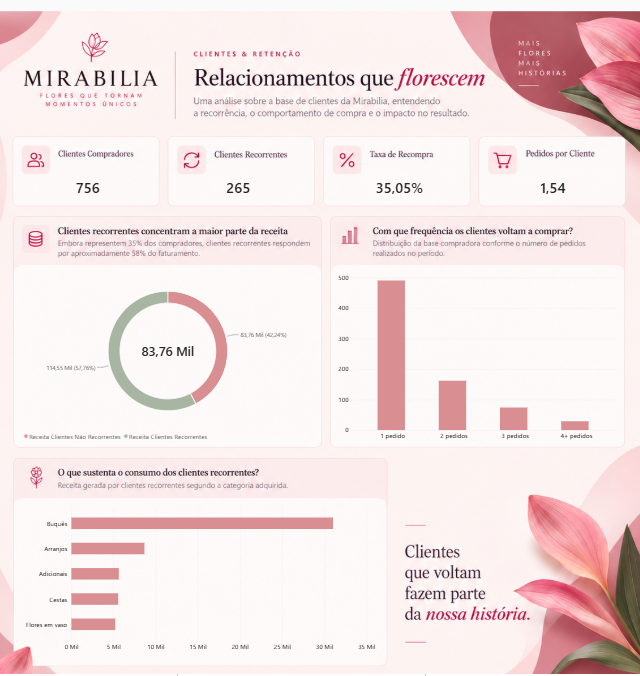

This screenshot's page, from the dashboard's own definition file:
{"tool":"powerbi","page":{"name":"🌷 Clientes & Retenção","canvas":[1440,1800],"ordinal":2},"visuals":[{"type":"cardVisual","fields":{"Data":["Medidas.Clientes Compradores"]},"box":[45,350,320,105],"z":0},{"type":"cardVisual","fields":{"Data":["Medidas.Clientes Recorrentes"]},"box":[382.5,382.5,315,72.5],"z":1000},{"type":"cardVisual","fields":{"Data":["Medidas.Taxa de Recompra"]},"box":[745,382.5,305,72.5],"z":2000},{"type":"cardVisual","fields":{"Data":["Medidas.Pedidos por Cliente"]},"box":[1087.5,382.5,307.5,72.5],"z":3000},{"type":"donutChart","title":"Clientes recorrentes concentram a maior parte da receita","fields":{"Y":["Medidas.Receita Clientes Não Recorrentes","Medidas.Receita Clientes Recorrentes"]},"box":[45,597.5,675,407.5],"z":4000},{"type":"columnChart","title":"Com que frequência os clientes voltam a comprar?","fields":{"Category":["DimCliente.Faixa de Frequência"],"Y":["Medidas.Clientes por Frequência"]},"box":[745,597.5,650,407.5],"z":5000},{"type":"barChart","title":"O que sustenta o consumo dos clientes recorrentes?","fields":{"Category":["DimProduto.Categoria"],"Y":["Medidas.Receita Recorrentes por Categoria"]},"box":[45,1110,815,362.5],"z":6000}]}

Visuals, with their boxes on the page's 1440x1800 design canvas (x1, y1, x2, y2). These are canvas units, not pixel positions in the 640x676 screenshot, which may show the page scaled, cropped or inside an application window:
cardVisual - Medidas.Clientes Compradores: {"x1": 45, "y1": 350, "x2": 365, "y2": 455}
cardVisual - Medidas.Clientes Recorrentes: {"x1": 382, "y1": 382, "x2": 698, "y2": 455}
cardVisual - Medidas.Taxa de Recompra: {"x1": 745, "y1": 382, "x2": 1050, "y2": 455}
cardVisual - Medidas.Pedidos por Cliente: {"x1": 1088, "y1": 382, "x2": 1395, "y2": 455}
"Clientes recorrentes concentram a maior parte da receita" donutChart: {"x1": 45, "y1": 598, "x2": 720, "y2": 1005}
"Com que frequência os clientes voltam a comprar?" columnChart: {"x1": 745, "y1": 598, "x2": 1395, "y2": 1005}
"O que sustenta o consumo dos clientes recorrentes?" barChart: {"x1": 45, "y1": 1110, "x2": 860, "y2": 1472}
